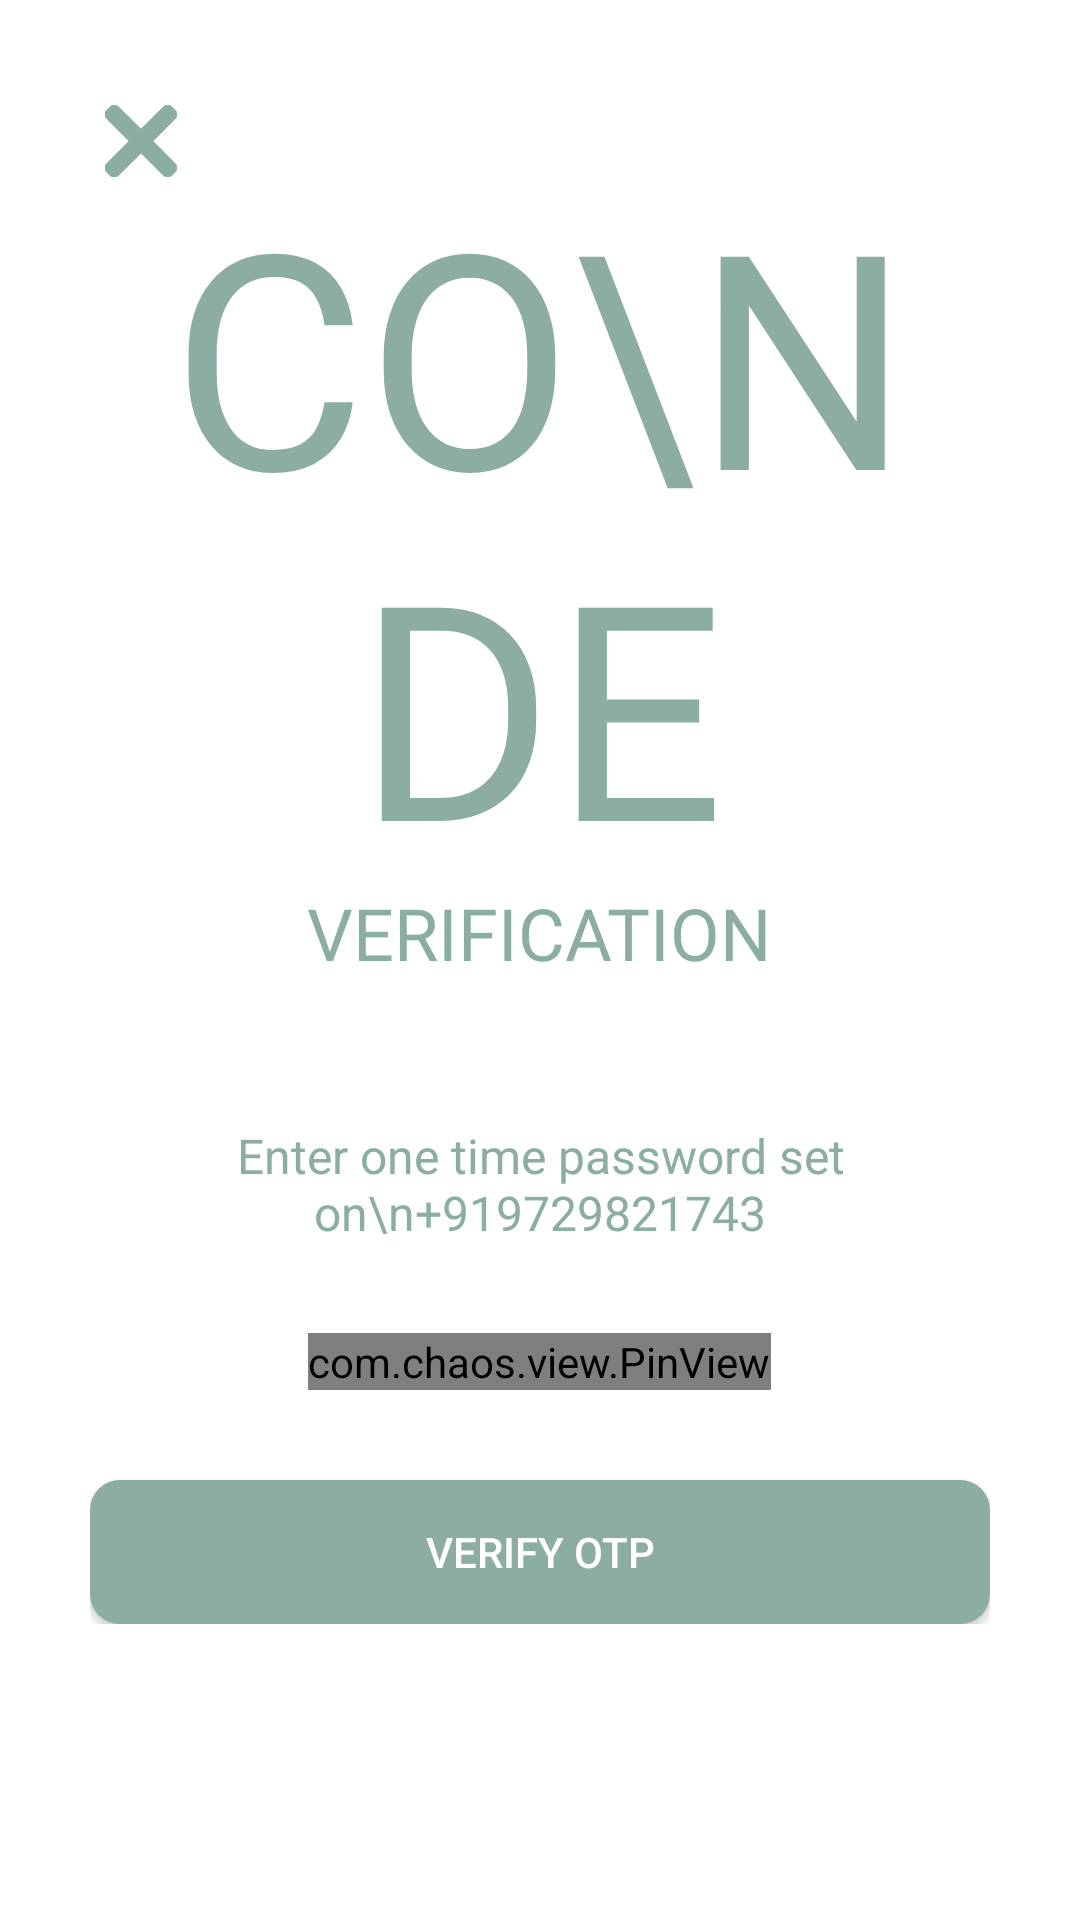

Icons on this 1080x1920 Android screen, each with the point to tap as [x,y]:
close: [141,141]
